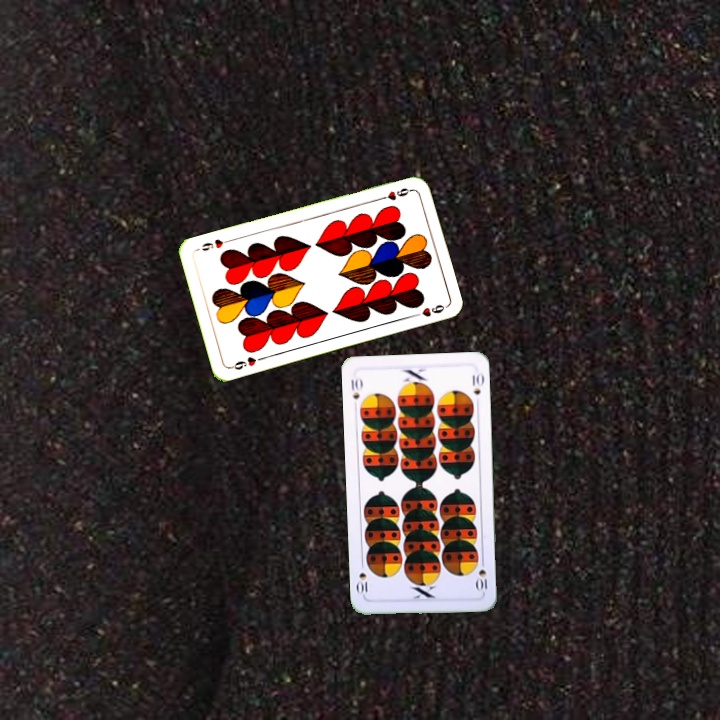H9: (226, 353, 266, 372), (375, 184, 414, 203)
S10: (473, 555, 490, 594), (347, 374, 365, 402)
